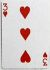three: (1, 1, 49, 69)
